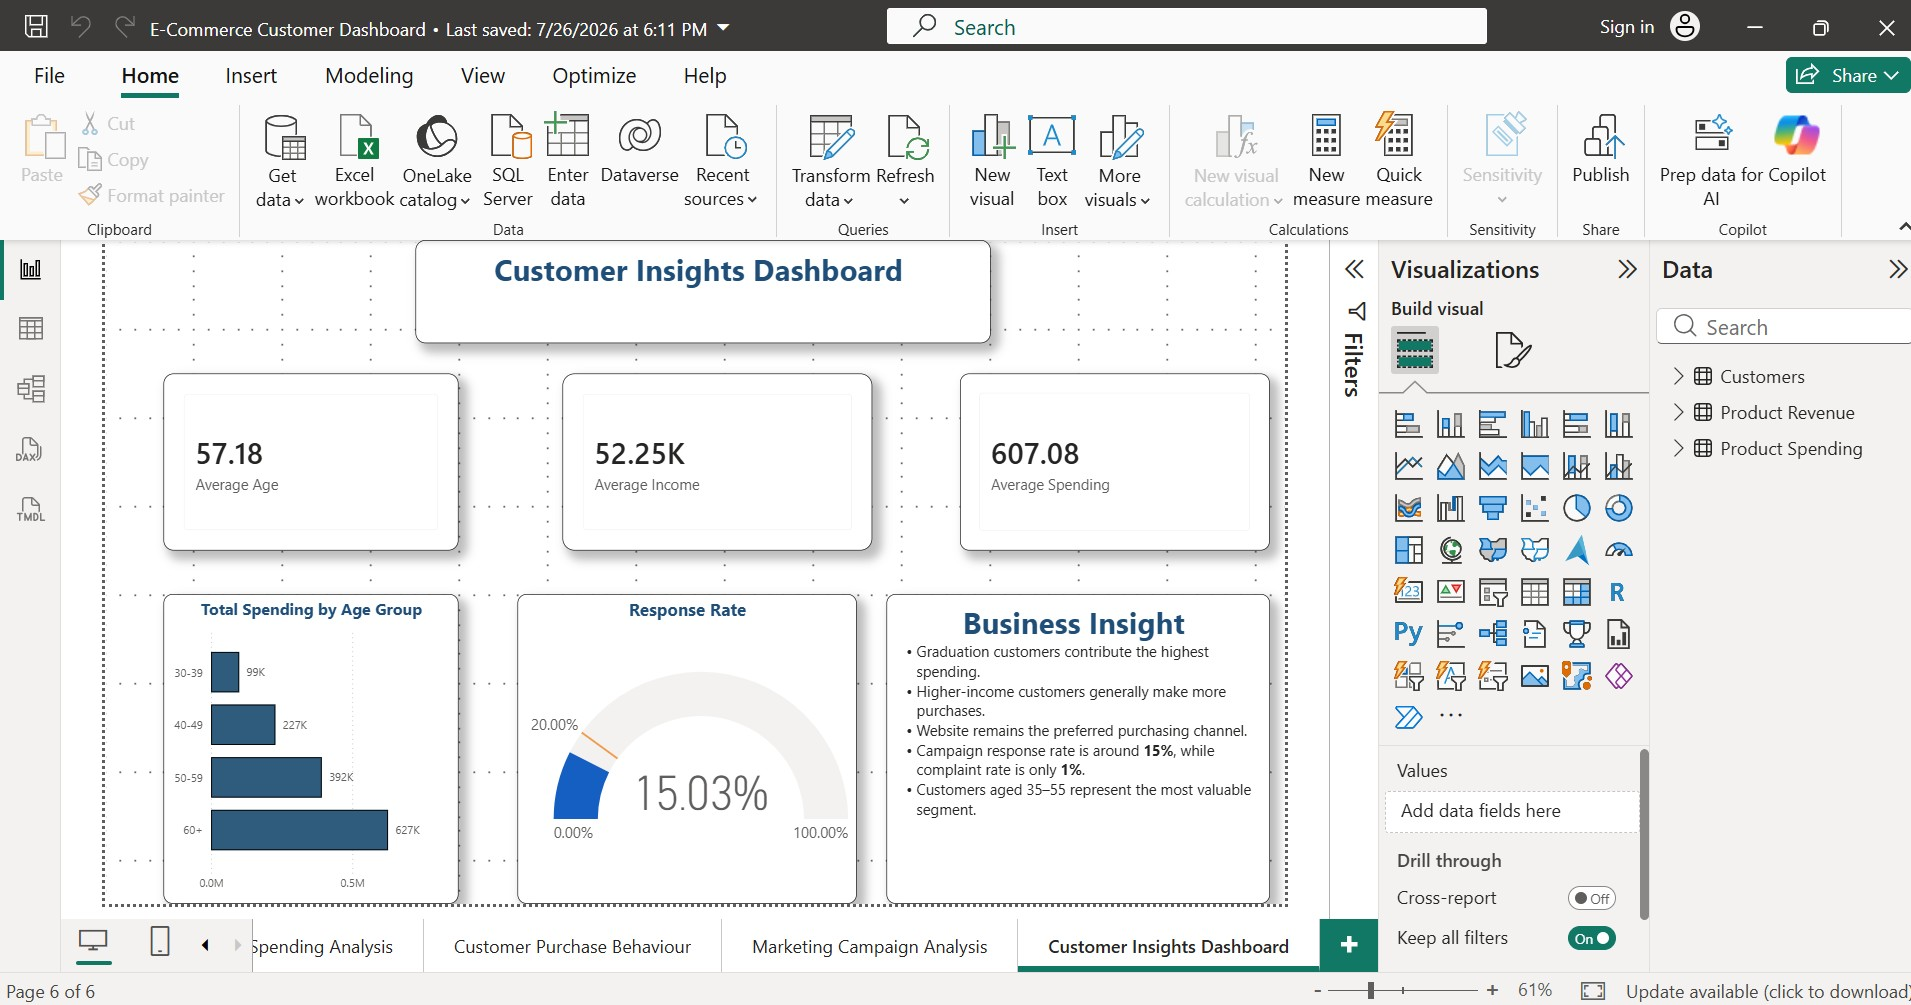

What the dashboard file says about the page in this screenshot:
{"tool":"powerbi","page":{"name":"Customer Insights Dashboard","canvas":[1280,720],"ordinal":5},"visuals":[{"type":"textbox","box":[336,0,624,112],"z":0},{"type":"cardVisual","fields":{"Data":["Customers.Average Age"]},"box":[64,144,320,192],"z":1000},{"type":"cardVisual","fields":{"Data":["Customers.Average Income"]},"box":[496,144,336,192],"z":2000},{"type":"cardVisual","fields":{"Data":["Customers.Average Spending"]},"box":[928,144,336,192],"z":3000},{"type":"clusteredBarChart","title":"Total Spending by Age Group","fields":{"Category":["Customers.Age Group"],"Y":["Customers.Total Spending Measure"]},"box":[64,384,320,336],"z":4000},{"type":"textbox","box":[848,384,416,336],"z":5000},{"type":"gauge","fields":{"Y":["Customers.Response Rate"]},"box":[448,384,368,336],"z":6000}]}

Visuals, with their boxes on the page's 1280x720 design canvas (x1, y1, x2, y2). These are canvas units, not pixel positions in the 1911x1005 screenshot, which may show the page scaled, cropped or inside an application window:
textbox: [336, 0, 960, 112]
cardVisual - Customers.Average Age: [64, 144, 384, 336]
cardVisual - Customers.Average Income: [496, 144, 832, 336]
cardVisual - Customers.Average Spending: [928, 144, 1264, 336]
"Total Spending by Age Group" clusteredBarChart: [64, 384, 384, 720]
textbox: [848, 384, 1264, 720]
gauge - Customers.Response Rate: [448, 384, 816, 720]
